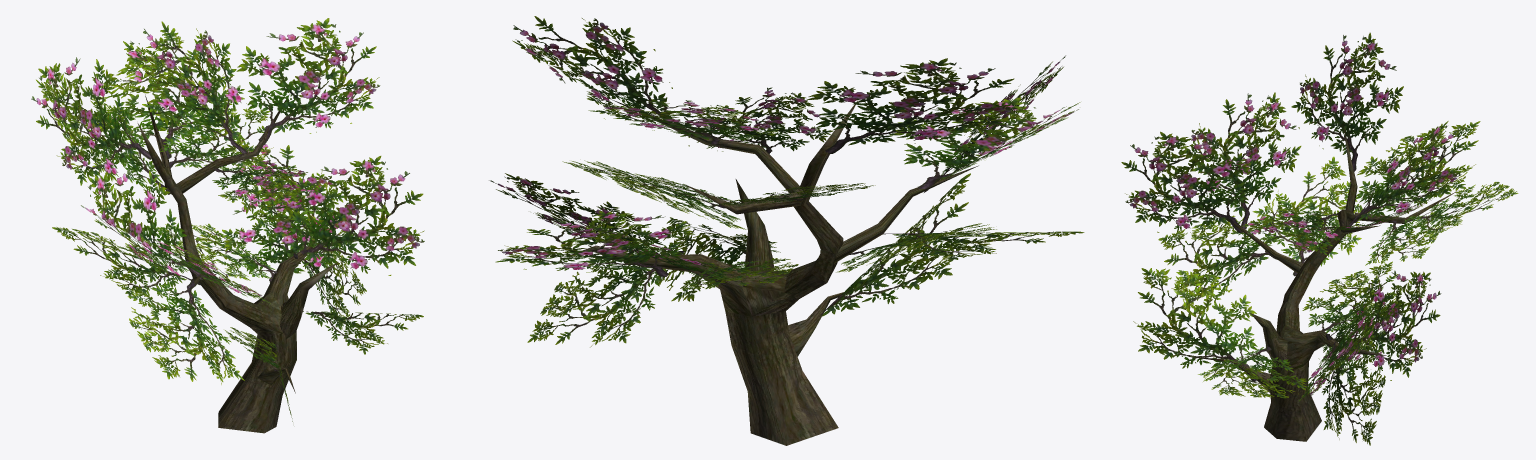
Rendered from fb_chun_shu03_56_12_8436out.fbx.
The picture shows the model from 3 angles, left to right: view 1: azimuth 30°, elevation 25°; view 2: azimuth 150°, elevation 25°; view 3: azimuth 270°, elevation 25°; orthographic projection. The views are drawn at different scales.
Visible parts, largest first — view 1: 0001_fb_chun_shu03, 0000_fb_chun_shu03; view 2: 0001_fb_chun_shu03, 0000_fb_chun_shu03; view 3: 0001_fb_chun_shu03, 0000_fb_chun_shu03.
Boxes of the visible parts, x1,y1,x2,y2 form: 0001_fb_chun_shu03: (31, 18, 424, 421); 0000_fb_chun_shu03: (137, 94, 338, 433); 0001_fb_chun_shu03: (489, 16, 1084, 347); 0000_fb_chun_shu03: (563, 99, 978, 445); 0001_fb_chun_shu03: (1121, 32, 1518, 445); 0000_fb_chun_shu03: (1188, 126, 1458, 441).
Bounding box in the file's own units: 5.96 × 4.96 × 5.51.
